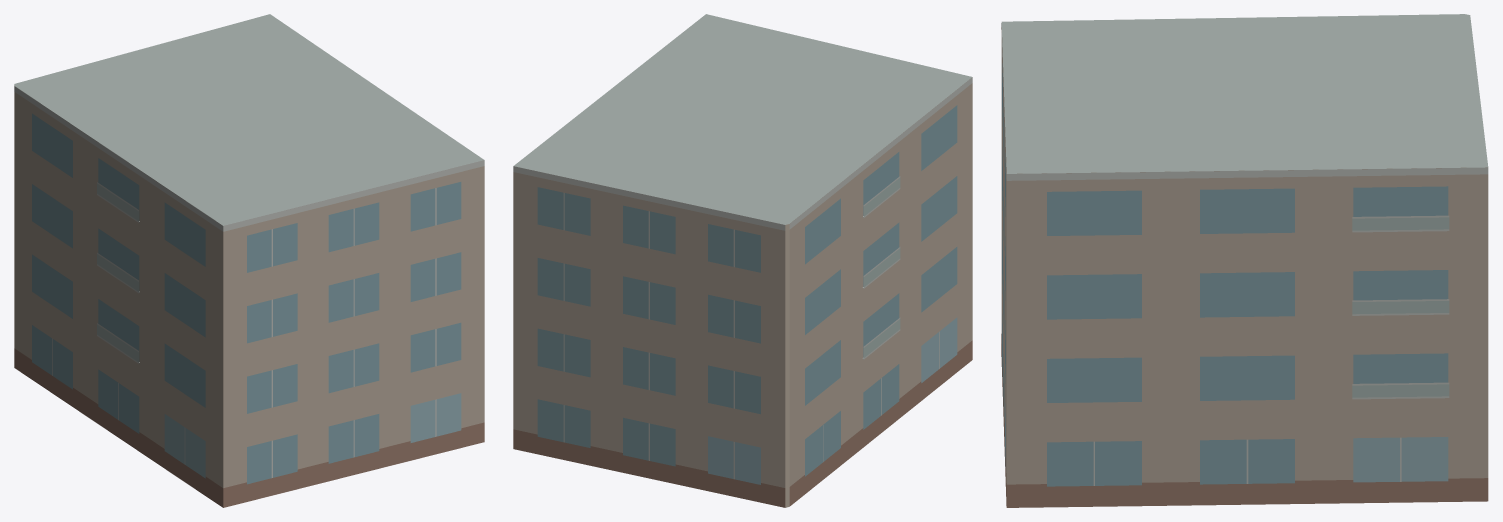
Rendered from survey-upis-32952379.glb.
3 views of the same model, side by side, from view 1: azimuth 30°, elevation 25°; view 2: azimuth 150°, elevation 25°; view 3: azimuth 270°, elevation 25° (orthographic). The views are drawn at different scales.
Visible parts, largest first — view 1: survey-upis-32952379.tmp; view 2: survey-upis-32952379.tmp; view 3: survey-upis-32952379.tmp.
Boxes of the visible parts, x1=… form: survey-upis-32952379.tmp: x1=14, y1=14, x2=484, y2=507; survey-upis-32952379.tmp: x1=513, y1=14, x2=972, y2=507; survey-upis-32952379.tmp: x1=1001, y1=14, x2=1488, y2=507.
Size of the model in its own units: 12.03 by 11.7 by 15.47.
